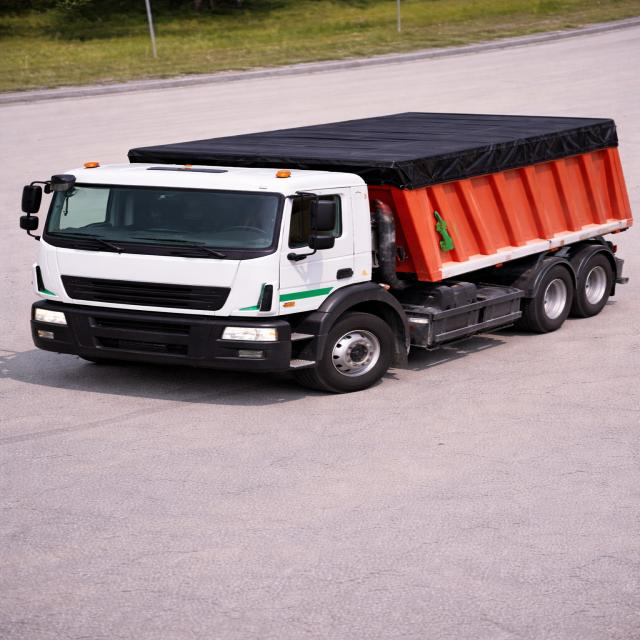Box: (120, 110, 620, 192)
Truck: (20, 85, 625, 389)
